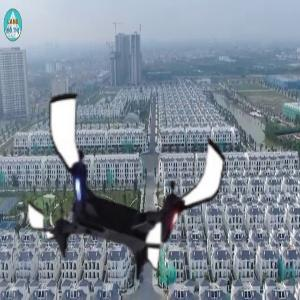drone: (24, 85, 232, 293)
